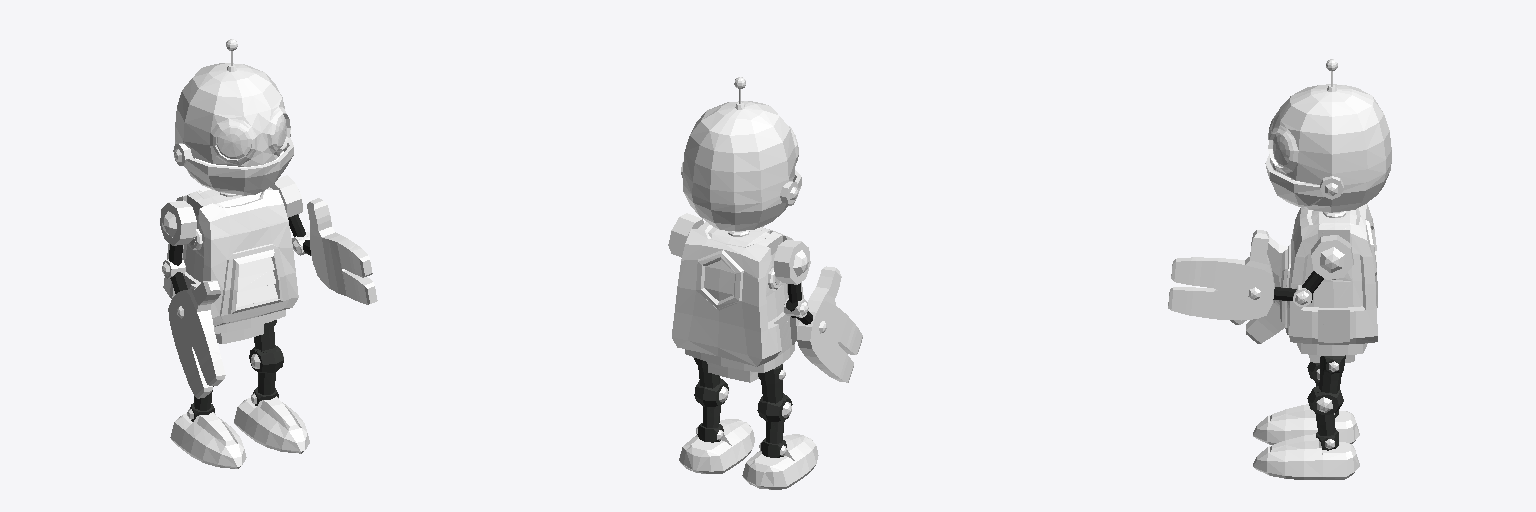
Rendered from robot.obj.
3 renders of one model, left to right at view 1: azimuth 30°, elevation 25°; view 2: azimuth 150°, elevation 25°; view 3: azimuth 270°, elevation 25°, orthographic.
Visible parts, largest first — view 1: Object.9, Object.12, Object.5, Object.7, Object.3, Object.13, Object.6, Object.16, Object.8, Object.10; view 2: Object.9, Object.11, Object.5, Object.3, Object.13, Object.12, Object.6, Object.10, Object.20, Object.18, Object.16, Object.14 (+1 smaller); view 3: Object.9, Object.7, Object.12, Object.13, Object.11, Object.3, Object.8, Object.5, Object.16, Object.14, Object.10.
Part boxes in pixels (x1,y1,x2,y2): Object.9: (173, 39, 293, 195); Object.12: (184, 187, 298, 326); Object.5: (162, 259, 225, 398); Object.7: (294, 198, 377, 304); Object.3: (170, 412, 246, 468); Object.13: (234, 396, 309, 453); Object.6: (160, 200, 196, 278); Object.16: (251, 346, 283, 405); Object.8: (270, 175, 309, 253); Object.10: (214, 310, 285, 343); Object.9: (681, 77, 801, 230); Object.11: (672, 229, 781, 366); Object.5: (784, 266, 862, 382); Object.3: (742, 434, 818, 489); Object.13: (679, 419, 754, 473); Object.12: (698, 222, 803, 356); Object.6: (774, 240, 810, 317); Object.10: (685, 344, 794, 382); Object.20: (757, 364, 784, 421); Object.18: (759, 393, 792, 457); Object.16: (696, 378, 728, 442); Object.14: (694, 358, 725, 406); Object.9: (1265, 59, 1391, 212); Object.7: (1168, 230, 1312, 320); Object.12: (1279, 207, 1349, 344); Object.13: (1253, 434, 1359, 479); Object.11: (1350, 204, 1377, 343); Object.3: (1253, 404, 1359, 444); Object.8: (1298, 235, 1353, 304); Object.5: (1230, 236, 1287, 343); Object.16: (1307, 386, 1338, 450); Object.14: (1318, 355, 1345, 414); Object.10: (1297, 343, 1367, 362).
Size of the model in its own units: 61.41 by 164 by 84.25.